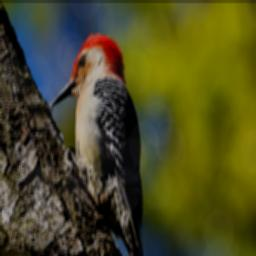Woodpecker: (46, 33, 144, 256)
